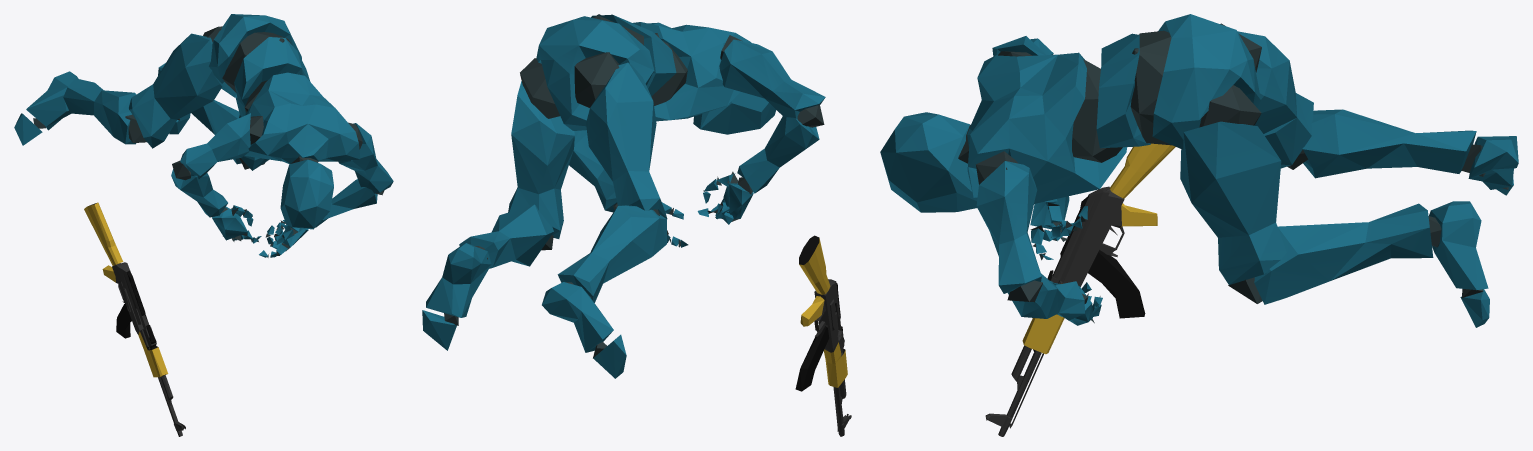
The model's file is EnemyDying_000046.obj.
3 renders of one model, left to right at view 1: azimuth 30°, elevation 25°; view 2: azimuth 150°, elevation 25°; view 3: azimuth 270°, elevation 25°, orthographic. The views are drawn at different scales.
Parts seen in each view (by area): view 1: Alpha_Surface, AK-47_Cube, Alpha_Joints; view 2: Alpha_Surface, Alpha_Joints, AK-47_Cube; view 3: Alpha_Surface, AK-47_Cube, Alpha_Joints.
Boxes of the visible parts, <box> form: Alpha_Surface: <box>14,14,393,257</box>; AK-47_Cube: <box>84,202,185,436</box>; Alpha_Joints: <box>33,26,384,257</box>; Alpha_Surface: <box>422,14,825,378</box>; Alpha_Joints: <box>444,14,824,358</box>; AK-47_Cube: <box>795,235,851,436</box>; Alpha_Surface: <box>880,14,1518,327</box>; AK-47_Cube: <box>985,143,1175,436</box>; Alpha_Joints: <box>958,23,1508,323</box>.
Size of the model in its own units: 196 by 254 by 285.
